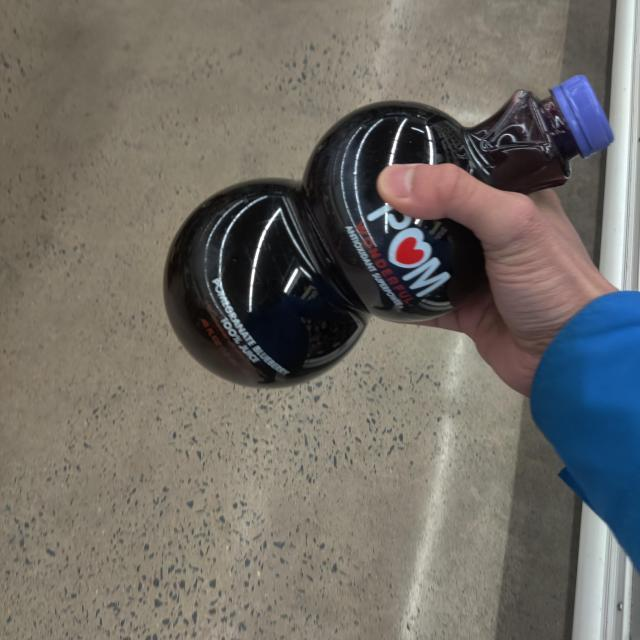Juice: (159, 56, 640, 402)
